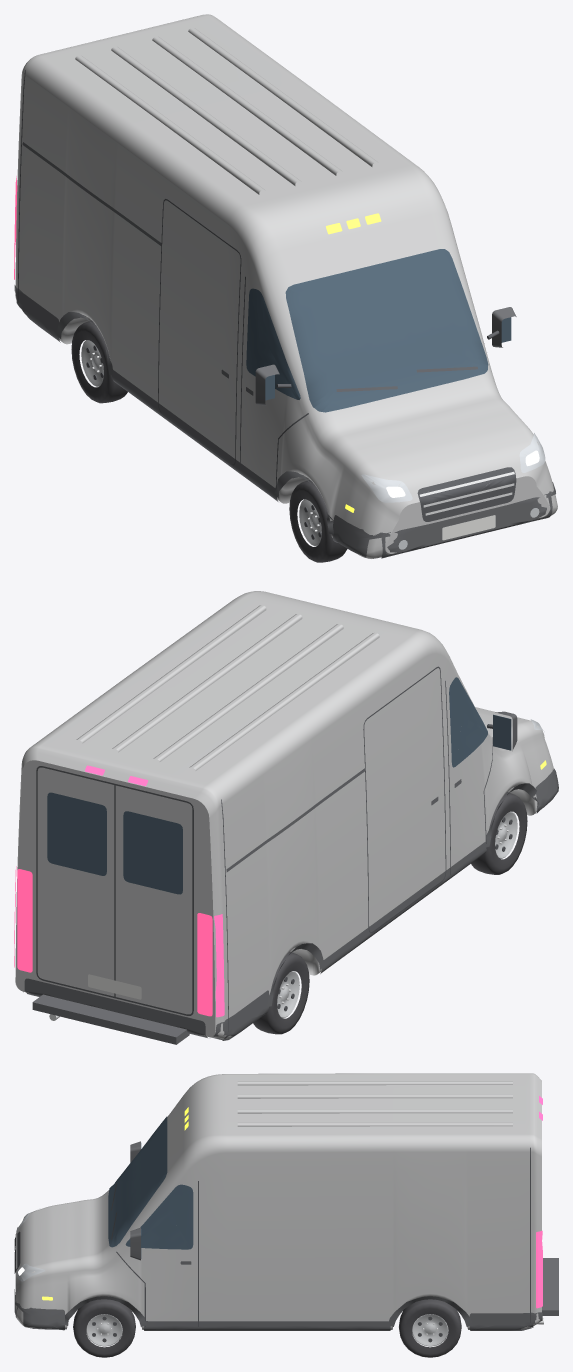
The model's file is van-delivery.glb.
The picture shows the model from 3 angles, top to bottom: view 1: azimuth 30°, elevation 25°; view 2: azimuth 150°, elevation 25°; view 3: azimuth 270°, elevation 25°; orthographic projection. The views are drawn at different scales.
Visible parts, largest first — view 1: van-delivery; view 2: van-delivery; view 3: van-delivery.
Boxes of the visible parts, left/top/right/bottom form: van-delivery: left=14, top=14, right=557, bottom=562; van-delivery: left=14, top=591, right=558, bottom=1044; van-delivery: left=14, top=1073, right=558, bottom=1357.
Bounding box in the file's own units: 2.5 × 2.75 × 6.14.
